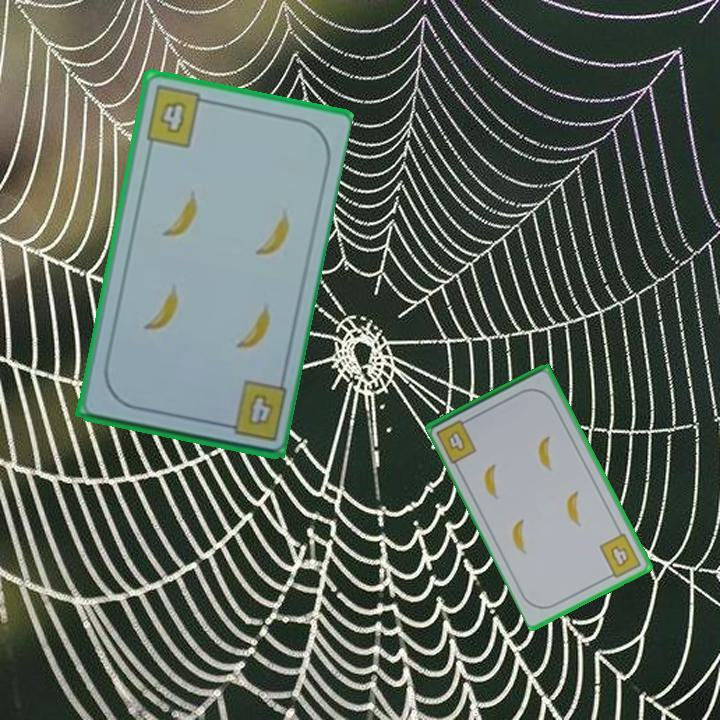4b: (142, 82, 213, 151), (216, 377, 289, 444), (596, 530, 644, 582), (433, 414, 480, 466)
